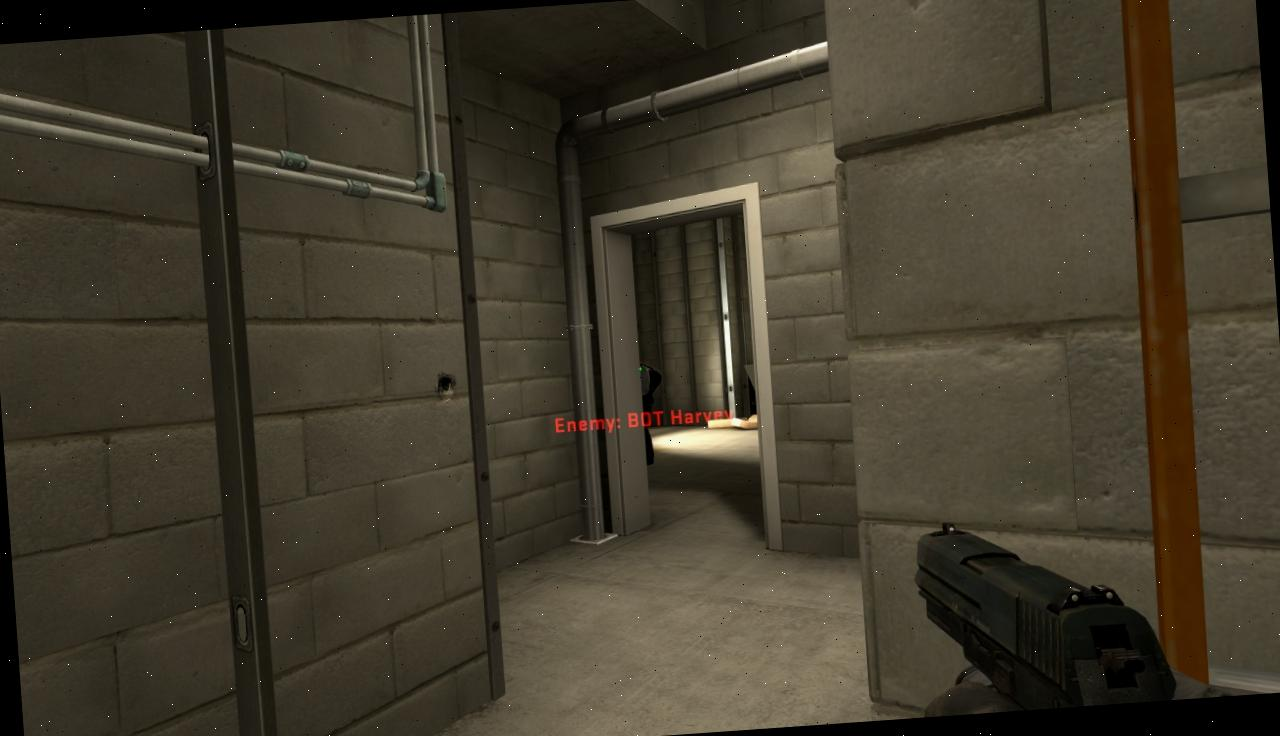pistol: (912, 511, 1174, 717)
tt: (638, 364, 656, 464)
